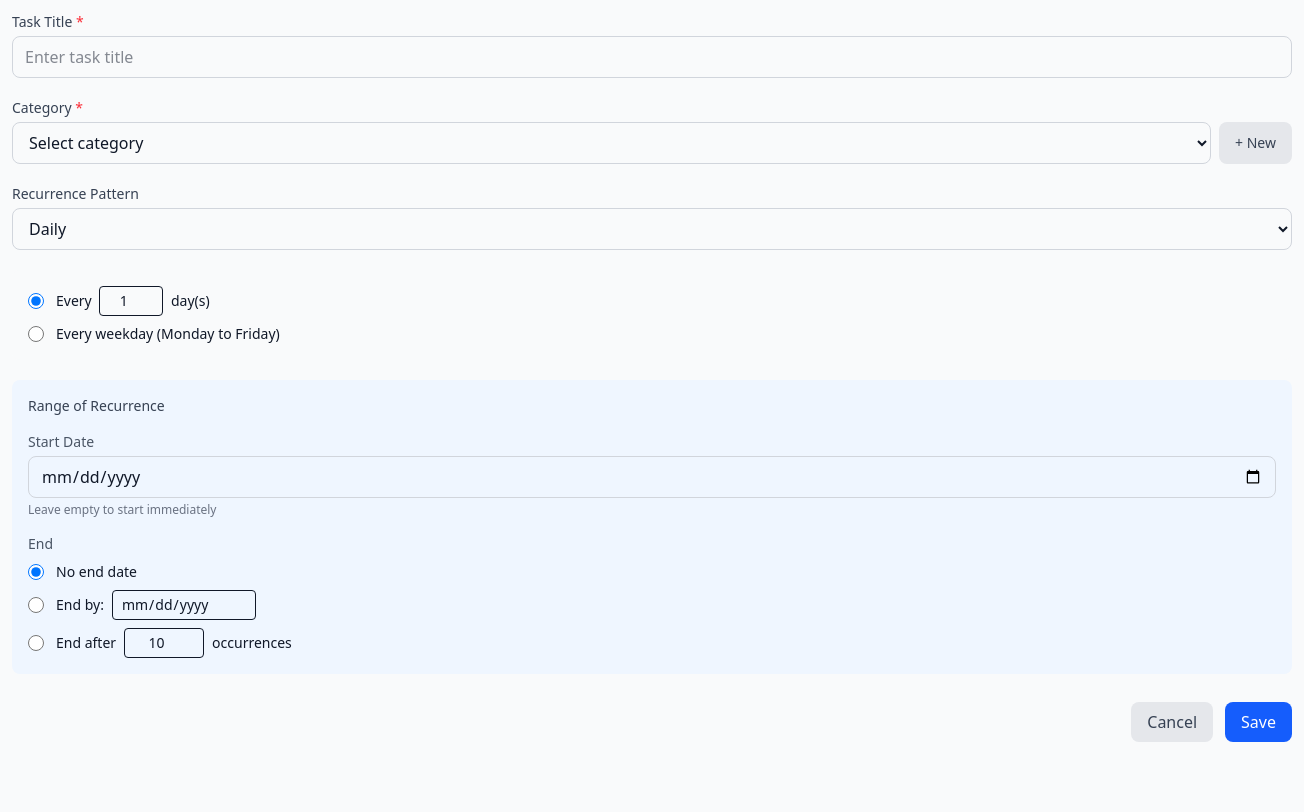
TaskForm › shows new category form when + New is clicked
Step 1. Click the button "+ New" → (1256,143), box [1219,122,1292,164]
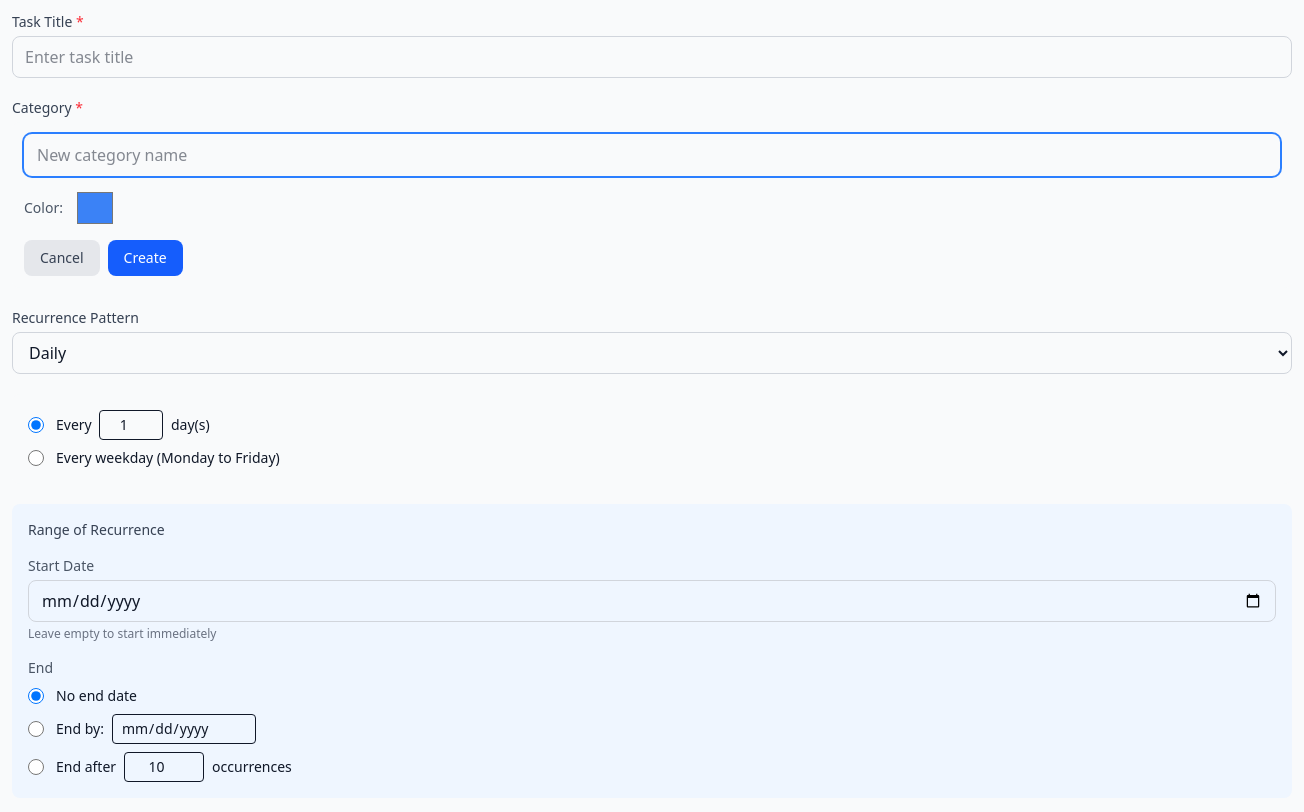
Result: the field with placeholder "New category name" is shown at [24,134,1280,176]
